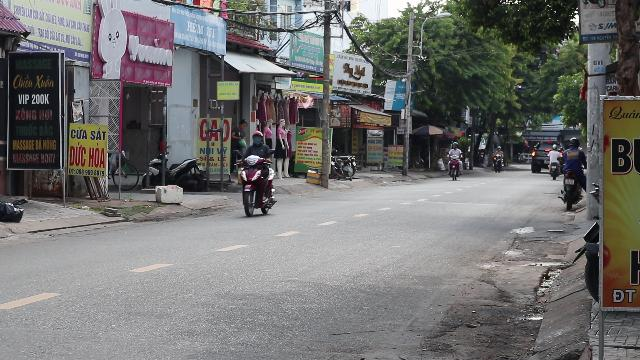helmet: (250, 130, 264, 144)
motorcyclist: (235, 130, 279, 216)
